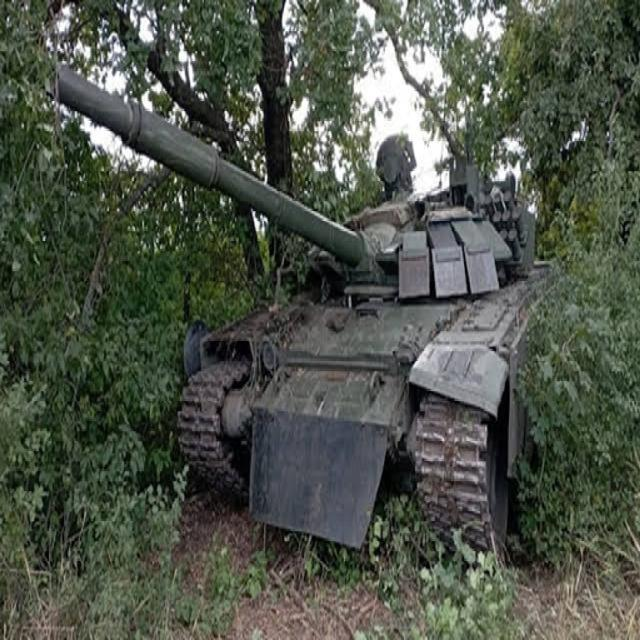TANK: (48, 51, 576, 593)
